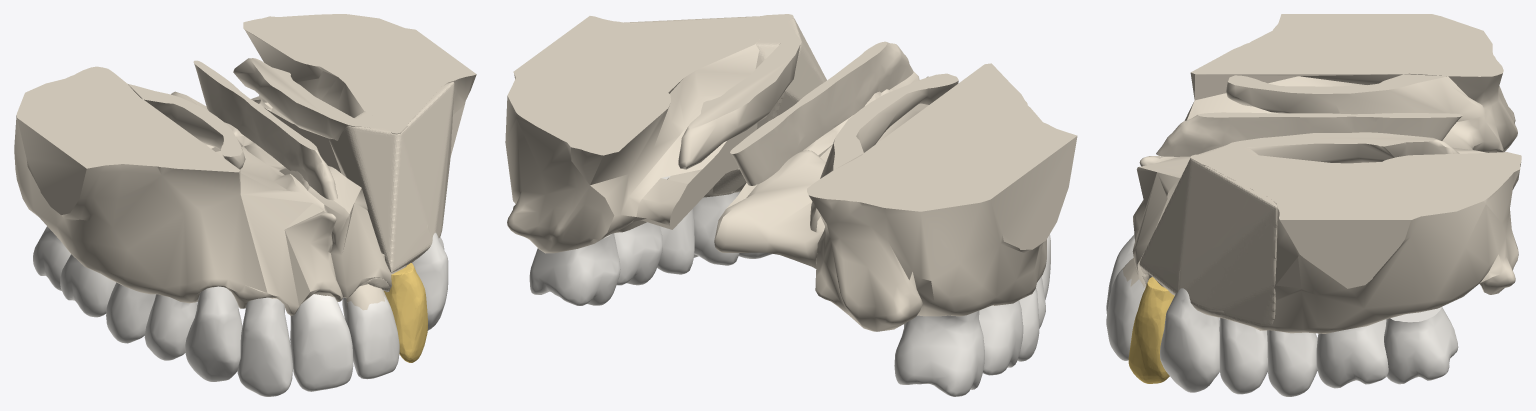
The model's file is abg-long-term-implant.glb.
3 renders of one model, left to right at view 1: azimuth 30°, elevation 25°; view 2: azimuth 150°, elevation 25°; view 3: azimuth 270°, elevation 25°, orthographic. The views are drawn at different scales.
Visible parts, largest first — view 1: bone, teeth, implant-crown; view 2: bone, teeth; view 3: bone, teeth, implant-crown.
Boxes of the visible parts, x1,y1,x2,y2 form: bone: [14, 14, 476, 379]; teeth: [33, 226, 448, 396]; implant-crown: [384, 263, 427, 362]; bone: [505, 14, 1077, 331]; teeth: [529, 176, 1050, 396]; bone: [1106, 14, 1521, 360]; teeth: [1106, 235, 1458, 396]; implant-crown: [1128, 277, 1174, 383].
Bounding box in the file's own units: 0.0972 × 0.0502 × 0.0828.
